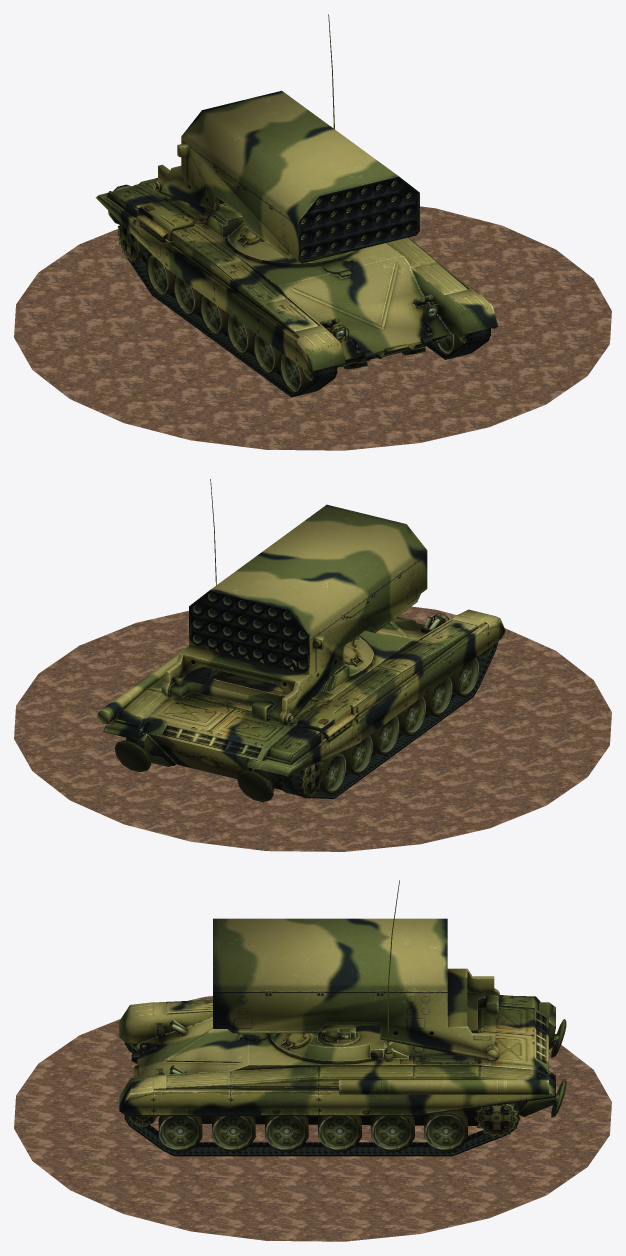
File: TOS.glb
The picture shows the model from 3 angles, top to bottom: view 1: azimuth 30°, elevation 25°; view 2: azimuth 150°, elevation 25°; view 3: azimuth 270°, elevation 25°; orthographic projection.
Parts seen in each view (by area): view 1: Object_2, Object_4, Object_3; view 2: Object_4, Object_2, Object_3; view 3: Object_4, Object_2, Object_3.
Part boxes in pixels (bbox=[...]): Object_2: bbox=[14, 206, 611, 450]; Object_4: bbox=[95, 14, 498, 393]; Object_3: bbox=[118, 223, 490, 397]; Object_4: bbox=[97, 479, 505, 801]; Object_2: bbox=[14, 606, 611, 851]; Object_3: bbox=[126, 641, 498, 798]; Object_4: bbox=[119, 880, 566, 1151]; Object_2: bbox=[14, 996, 611, 1241]; Object_3: bbox=[124, 1042, 519, 1156].
Size of the model in its own units: 9.51 by 4.63 by 9.51.
3 materials, 3 textured.
